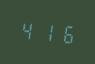four: (18, 17, 36, 43)
one: (38, 19, 56, 44)
six: (57, 20, 75, 46)
